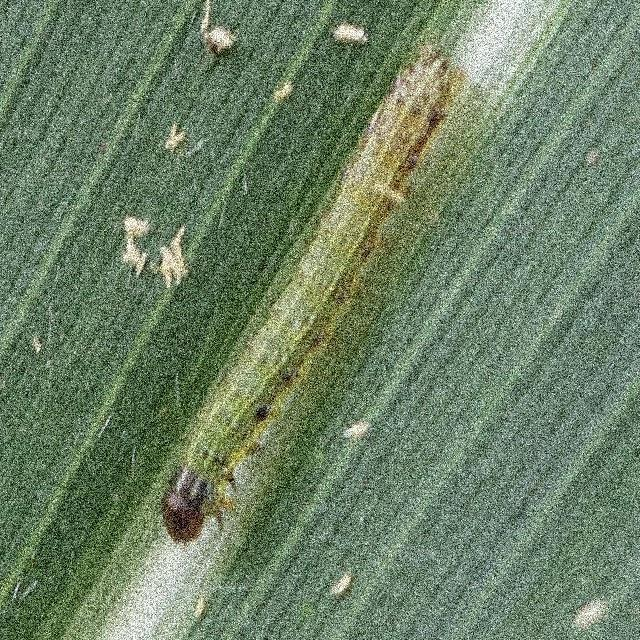gusano_cogollero: (162, 44, 466, 534)
